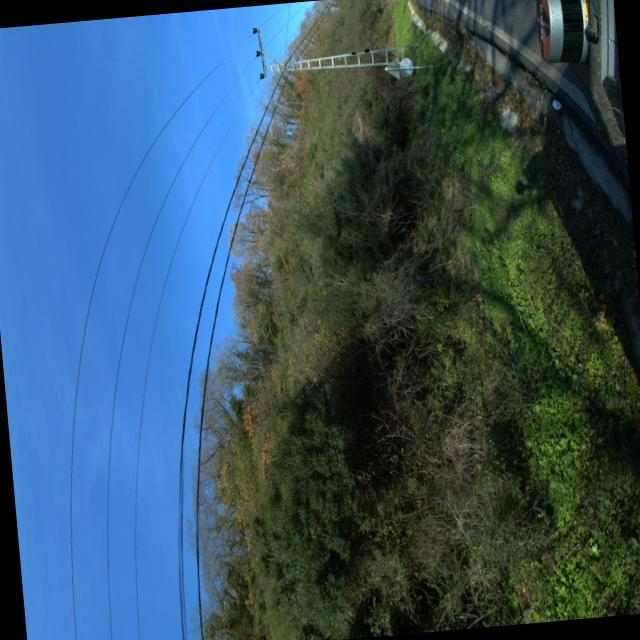Utility Pole Information Plate: (364, 48, 369, 51), (351, 51, 355, 53)
